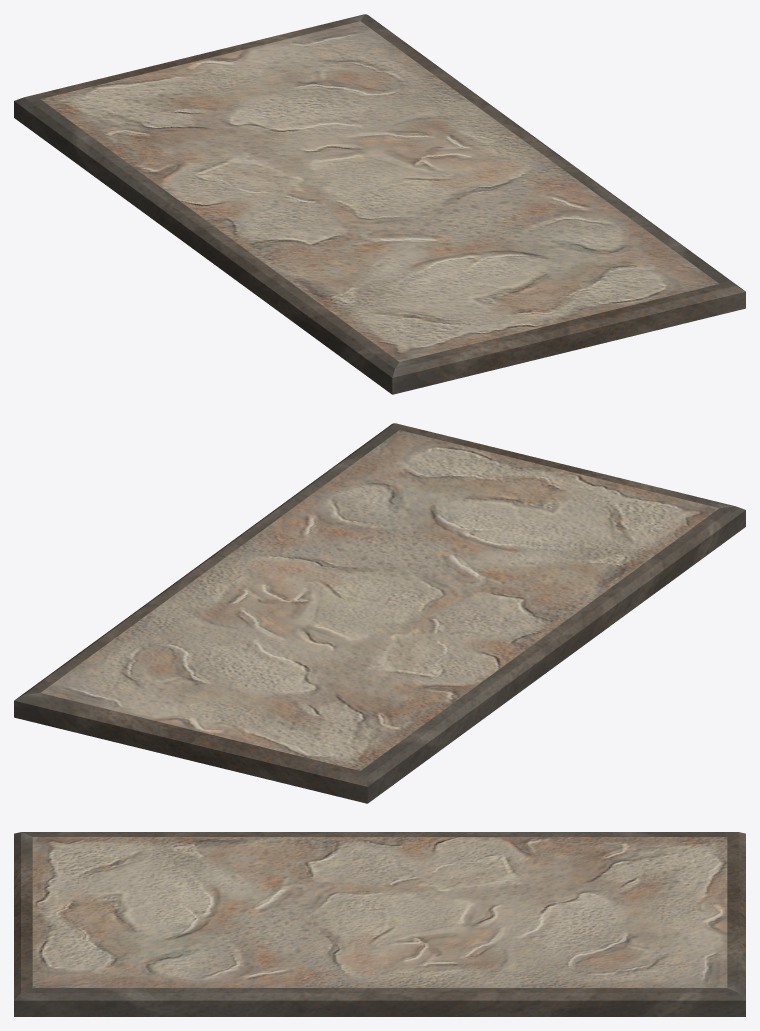
The model's file is Platform.obj.
The picture shows the model from 3 angles, top to bottom: view 1: azimuth 30°, elevation 25°; view 2: azimuth 150°, elevation 25°; view 3: azimuth 270°, elevation 25°; orthographic projection. The views are drawn at different scales.
Visible parts, largest first — view 1: Platform; view 2: Platform; view 3: Platform.
Part boxes in pixels (x1=…): Platform: x1=14, y1=14, x2=745, y2=394; Platform: x1=14, y1=423, x2=745, y2=803; Platform: x1=14, y1=832, x2=745, y2=1016.
Size of the model in its own units: 5.87 by 0.3436 by 10.89.
1 material, 1 textured.
